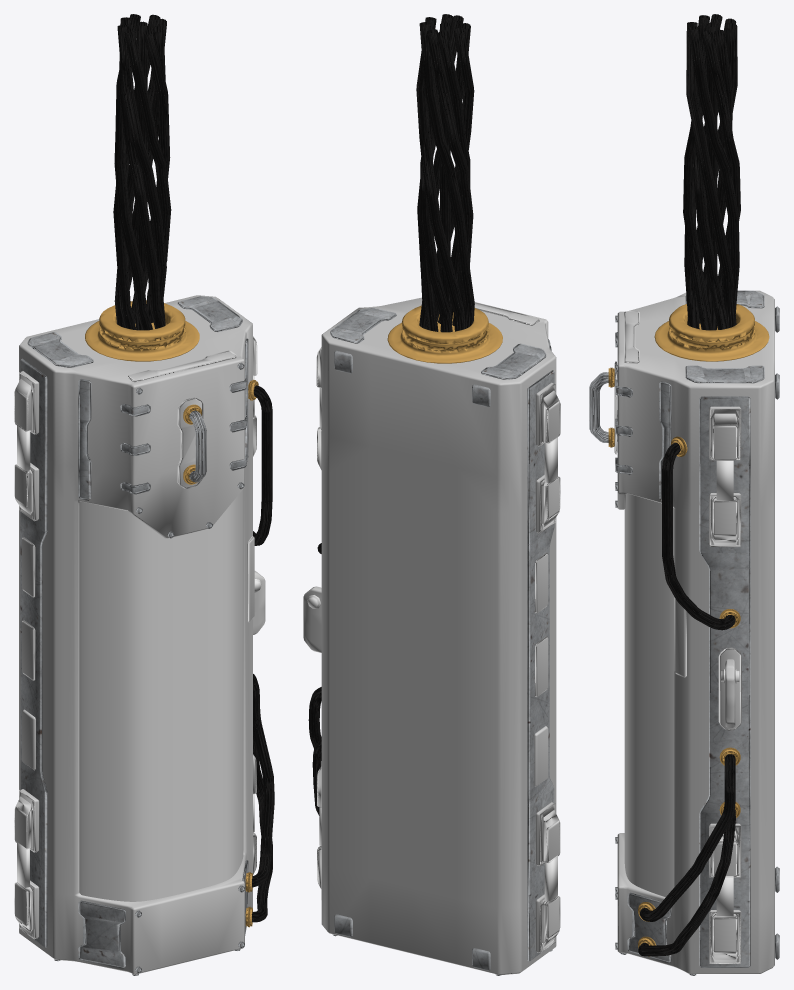
File: Pods.fbx
3 views of the same model, side by side, from view 1: azimuth 30°, elevation 25°; view 2: azimuth 150°, elevation 25°; view 3: azimuth 270°, elevation 25° (orthographic).
Parts seen in each view (by area): view 1: Body, Cover, Emissive; view 2: Body, Emissive; view 3: Body, Cover, Emissive.
Boxes of the visible parts, x1,y1,x2,y2 form: Body: (14, 14, 274, 975); Cover: (79, 489, 243, 901); Emissive: (17, 376, 261, 887); Body: (303, 14, 560, 975); Emissive: (307, 388, 557, 901); Body: (589, 14, 779, 975); Cover: (624, 493, 674, 896); Emissive: (716, 460, 739, 916).
Bounding box in the file's own units: 1.31 × 0.8769 × 4.61.
